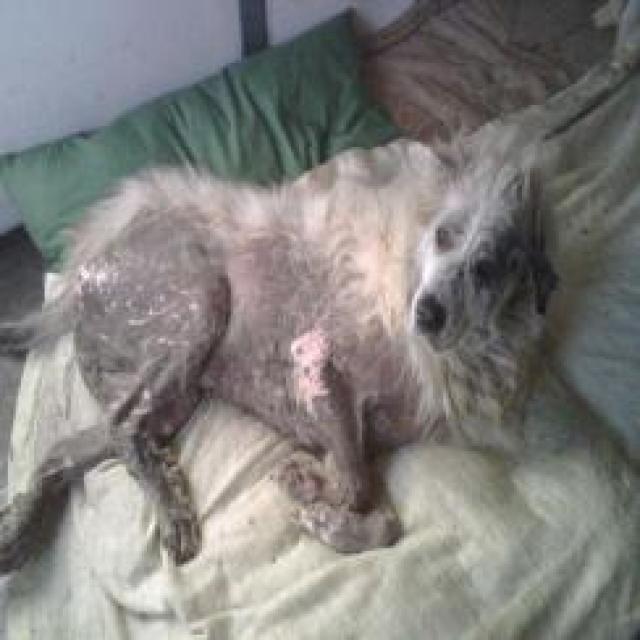fungal infection: (114, 280, 210, 350), (282, 335, 348, 397), (147, 452, 197, 522), (71, 262, 122, 282)
